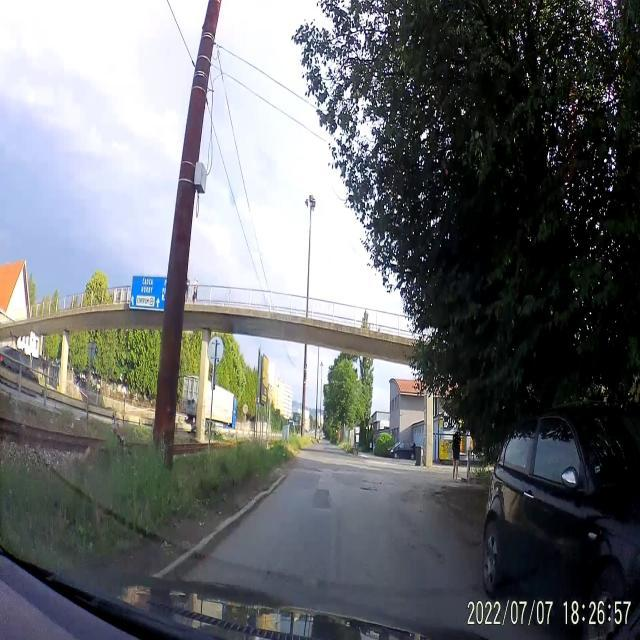Pothole: (351, 481, 387, 501)
